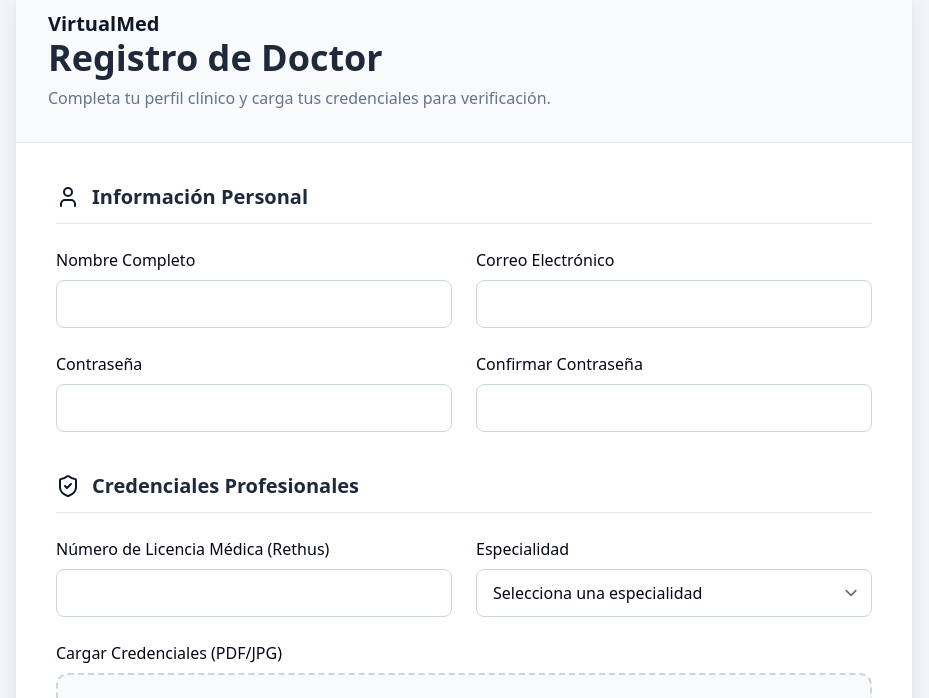
Test case: DoctorRegistrationForm › Validación de contraseña › debe mostrar los requisitos de contraseña al enfocar el campo
This screenshot has width=929, height=698.
Type "a" into the 1st password field named "password".
click(254, 408); type("a")  # box [56, 384, 452, 432]
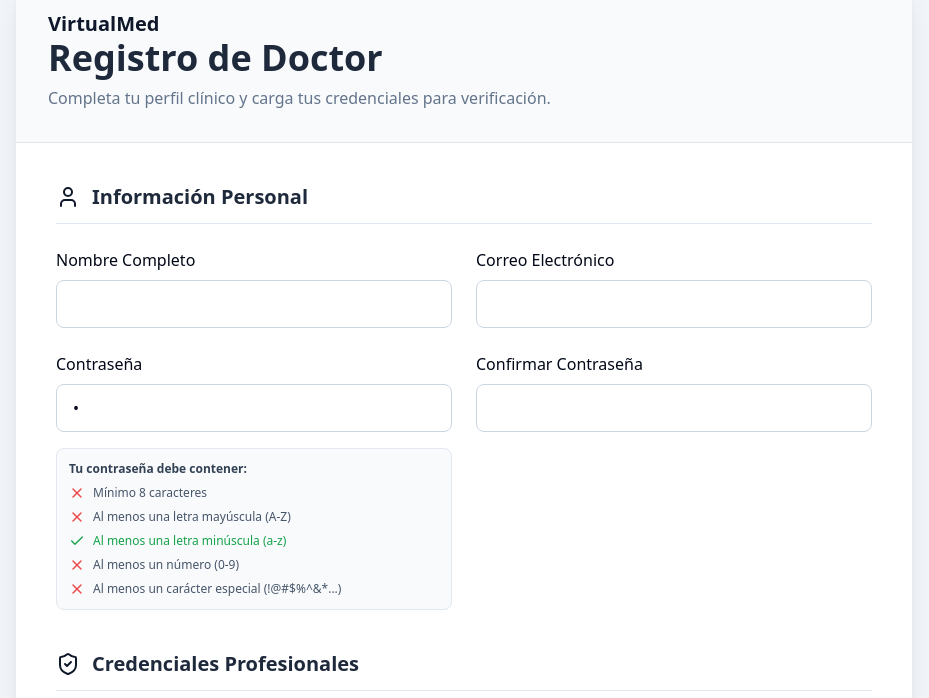
Expected: the text "Mínimo 8 caracteres" is shown, [93, 485, 207, 501]
Expected: the text "Al menos una letra mayúscula (A-Z)" is shown, [93, 509, 291, 525]
Expected: the text "Al menos una letra minúscula (a-z)" is shown, [93, 533, 286, 549]
